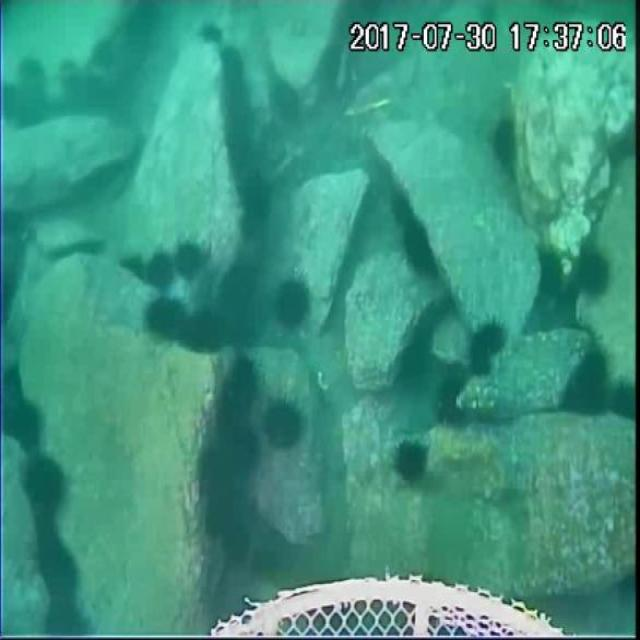echinus: (196, 445, 246, 503), (19, 455, 68, 512), (221, 355, 260, 424), (259, 396, 306, 451), (216, 261, 262, 316), (400, 217, 439, 280), (466, 319, 506, 380), (36, 542, 79, 598), (144, 293, 191, 343), (182, 304, 230, 352), (271, 274, 312, 330), (429, 378, 472, 431), (572, 248, 612, 303), (572, 344, 613, 396), (238, 168, 273, 224), (391, 436, 430, 485), (143, 246, 179, 298), (533, 251, 567, 305), (204, 491, 242, 538), (7, 400, 42, 449), (266, 79, 304, 124), (398, 343, 433, 389), (43, 600, 86, 637), (227, 97, 256, 151), (12, 88, 51, 128), (491, 116, 521, 168), (168, 240, 201, 283), (13, 55, 50, 93), (610, 376, 640, 422), (387, 185, 416, 232), (223, 41, 246, 99), (221, 520, 251, 564), (86, 39, 116, 72), (117, 253, 151, 280), (193, 19, 225, 45)
